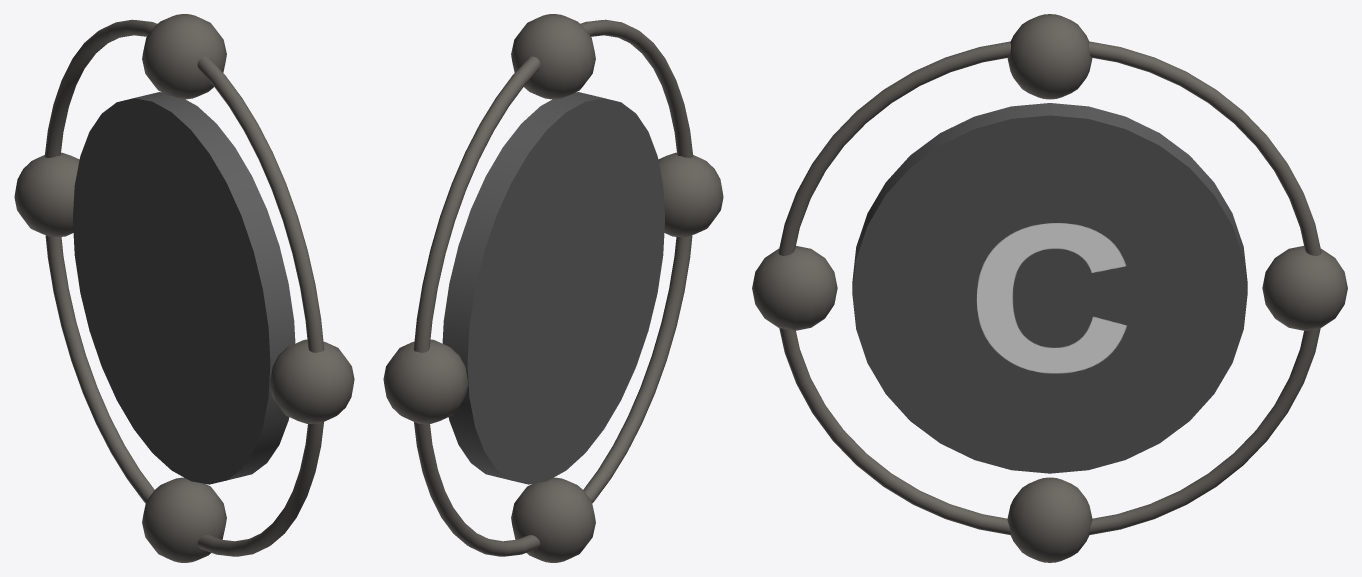
3 renders of one model, left to right at view 1: azimuth 30°, elevation 25°; view 2: azimuth 150°, elevation 25°; view 3: azimuth 270°, elevation 25°, orthographic.
Parts seen in each view (by area): view 1: m_c, m_aro.003, m_ele.017, m_ele.015, m_ele.014, m_ele.020; view 2: m_c, m_aro.003, m_ele.020, m_ele.015, m_ele.014, m_ele.017; view 3: m_c, m_aro.003, m_ele.015, m_ele.014, m_ele.017, m_ele.020.
Part boxes in pixels (<box>): m_c: <box>73,92,295,484</box>; m_aro.003: <box>44,19,324,556</box>; m_ele.017: <box>269,339,354,423</box>; m_ele.015: <box>142,477,226,562</box>; m_ele.014: <box>142,14,226,99</box>; m_ele.020: <box>14,152,79,237</box>; m_c: <box>442,92,664,484</box>; m_aro.003: <box>413,19,693,556</box>; m_ele.020: <box>383,339,468,423</box>; m_ele.015: <box>511,477,595,562</box>; m_ele.014: <box>511,14,595,99</box>; m_ele.017: <box>658,152,723,237</box>; m_c: <box>852,103,1247,473</box>; m_aro.003: <box>778,41,1321,535</box>; m_ele.015: <box>1007,477,1092,562</box>; m_ele.014: <box>1007,14,1092,99</box>; m_ele.017: <box>752,246,837,330</box>; m_ele.020: <box>1262,246,1347,330</box>.
Bounding box in the file's own units: 43.32 × 302 × 302.
